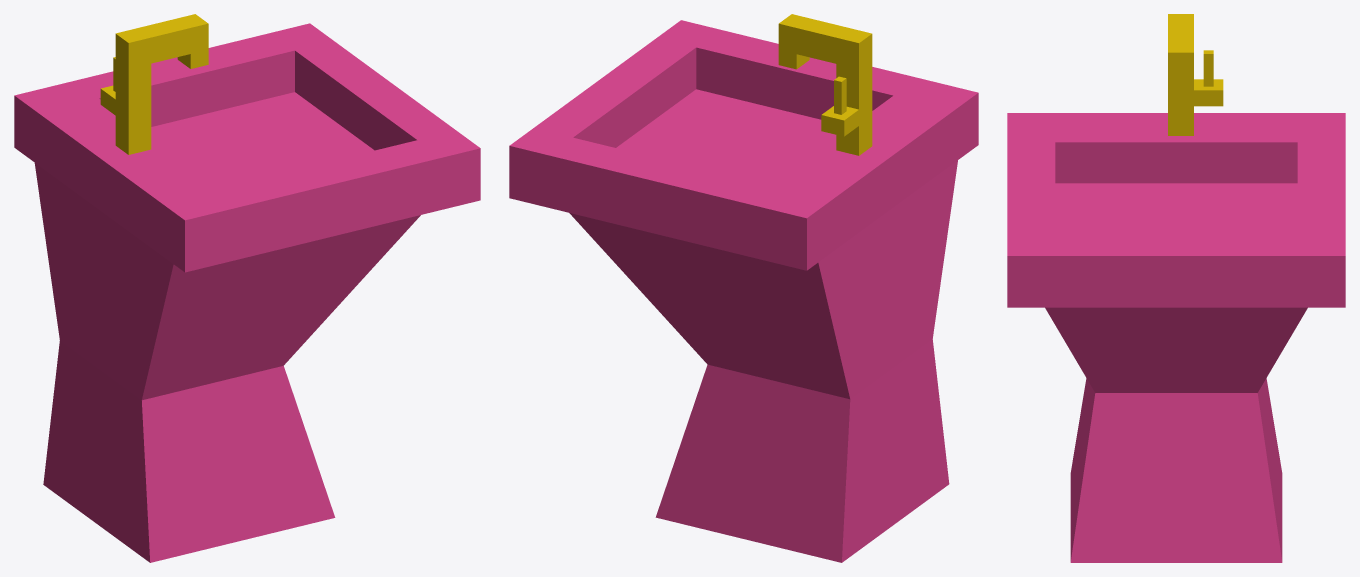
Rendered from Bathroom Sink.fbx.
3 renders of one model, left to right at view 1: azimuth 30°, elevation 25°; view 2: azimuth 150°, elevation 25°; view 3: azimuth 270°, elevation 25°, orthographic.
Parts seen in each view (by area): view 1: Base, Sink, Tap; view 2: Base, Sink, Tap; view 3: Sink, Base, Tap.
Boxes of the visible parts, x1,y1,x2,y2 form: Base: [34, 163, 420, 562]; Sink: [14, 23, 480, 272]; Tap: [100, 14, 208, 154]; Base: [569, 160, 957, 562]; Sink: [509, 20, 978, 270]; Tap: [778, 14, 872, 155]; Sink: [1007, 113, 1345, 307]; Base: [1045, 307, 1307, 562]; Tap: [1168, 14, 1223, 135].
Size of the model in its own units: 73.99 by 113 by 73.27.
